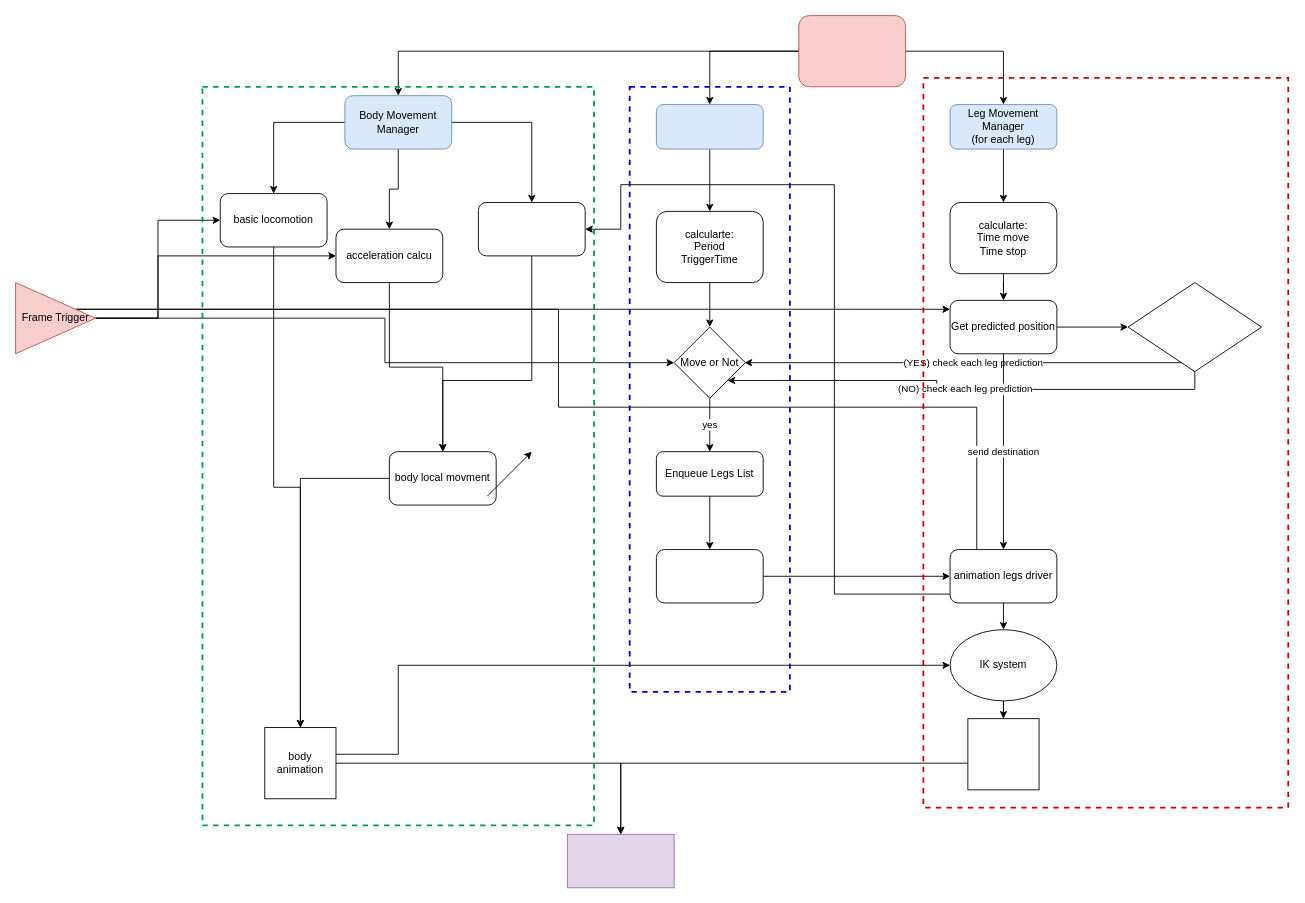
Image size: 1305x903. Some labels were removed from this diagram. The shapes that lost their labels are listed below. From the top down, each one's centre as x and y in pixels, then its label:
At (x=852, y=51): "Input: velocity legs list".
At (x=709, y=126): "Locomotion Manager".
At (x=531, y=229): "legs influence".
At (x=1194, y=327): "if prediction > to move".
At (x=709, y=576): "trigger legs Movement".
At (x=1003, y=754): "Legs Animation".
At (x=620, y=860): "Final Result".
